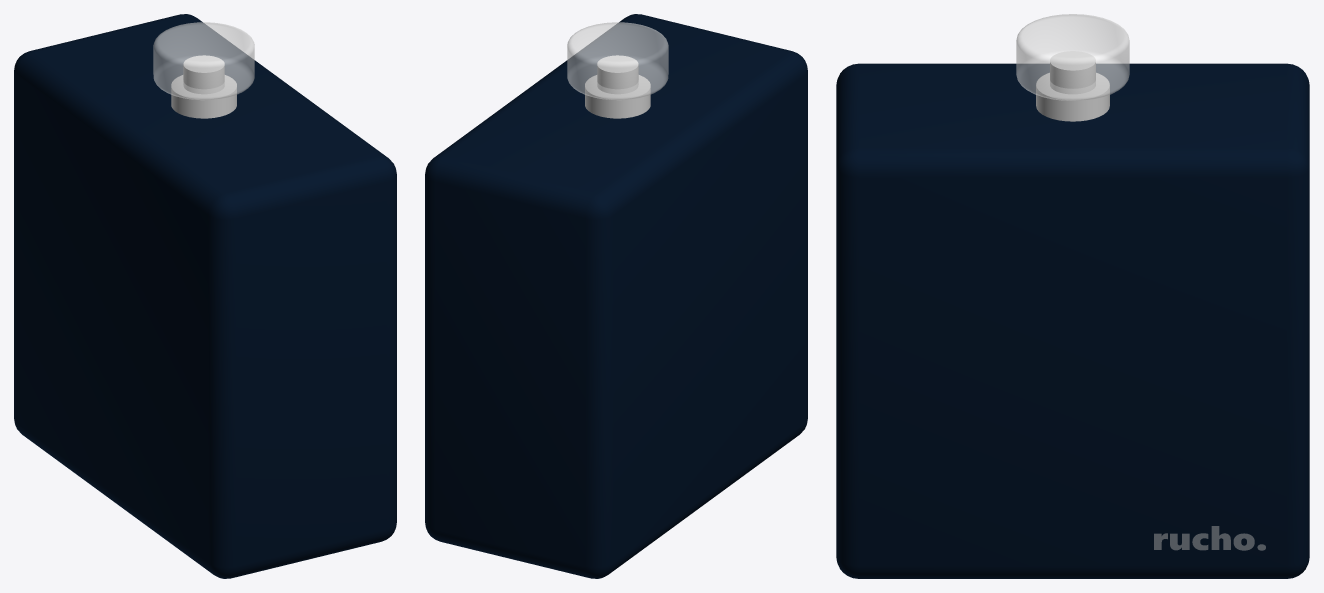
The model's file is justperfume.glb.
The picture shows the model from 3 angles, left to right: view 1: azimuth 30°, elevation 25°; view 2: azimuth 150°, elevation 25°; view 3: azimuth 270°, elevation 25°; orthographic projection. The views are drawn at different scales.
Visible parts, largest first — view 1: Cube, lid, bottom, spray; view 2: Cube, lid, bottom, spray; view 3: Cube, lid, bottom, spray, Text.
Part boxes in pixels (x1=…): Cube: x1=14, y1=14, x2=396, y2=578; lid: x1=153, y1=22, x2=254, y2=100; bottom: x1=171, y1=75, x2=236, y2=118; spray: x1=183, y1=55, x2=224, y2=93; Cube: x1=425, y1=14, x2=807, y2=578; lid: x1=567, y1=22, x2=668, y2=100; bottom: x1=585, y1=75, x2=650, y2=118; spray: x1=597, y1=55, x2=638, y2=93; Cube: x1=836, y1=63, x2=1309, y2=578; lid: x1=1016, y1=14, x2=1129, y2=100; bottom: x1=1036, y1=73, x2=1109, y2=121; spray: x1=1050, y1=51, x2=1095, y2=93; Text: x1=1154, y1=526, x2=1265, y2=550.
Size of the model in its own units: 1.03 by 2.33 by 2.
